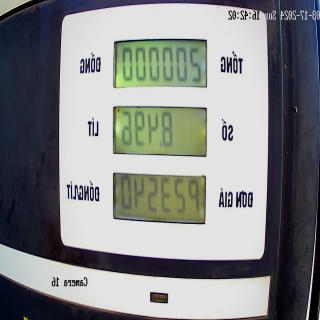screen: (110, 36, 209, 228)
